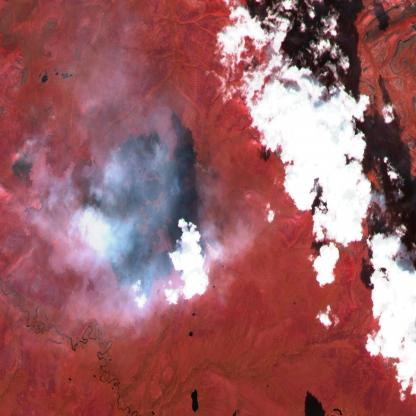fire: (75, 116, 211, 304)
